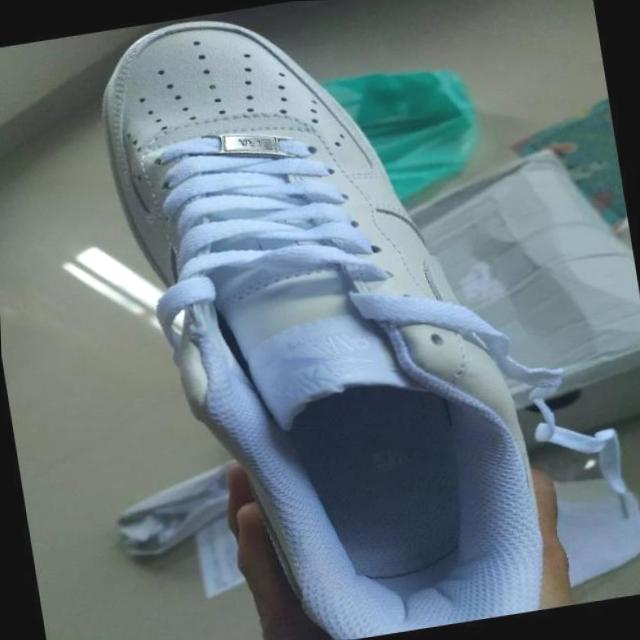nike_fake_airforce: (86, 0, 569, 640)
